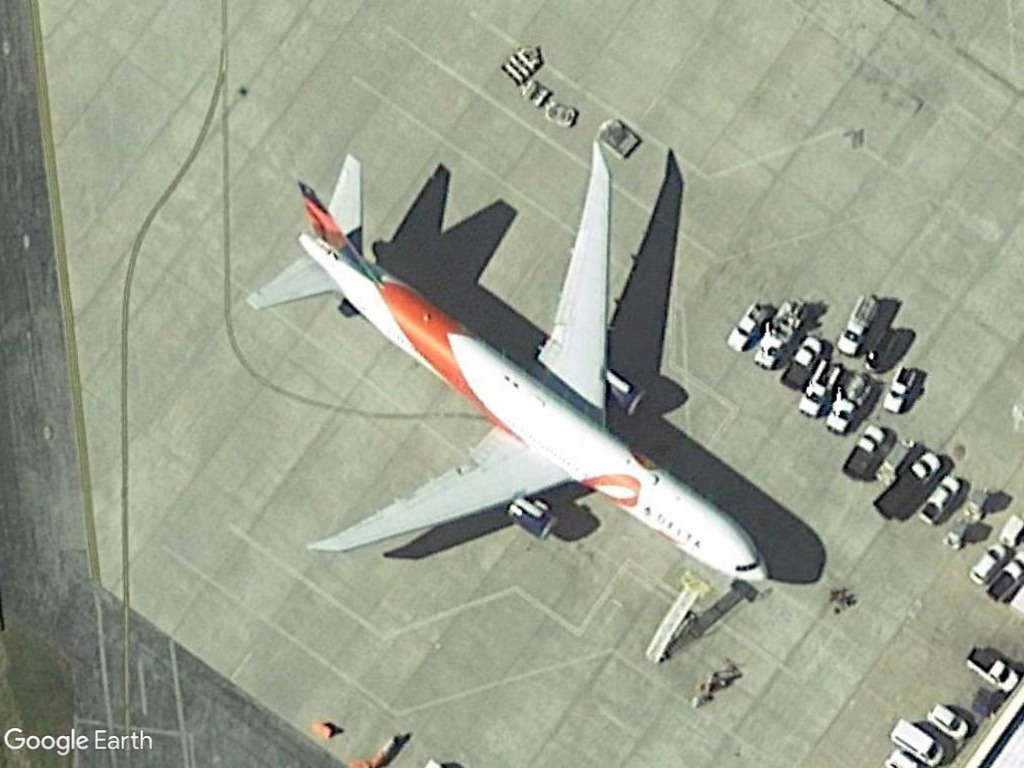airliner: (233, 138, 774, 589)
car: (965, 541, 1011, 589)
van: (888, 716, 943, 766), (920, 694, 974, 742)
